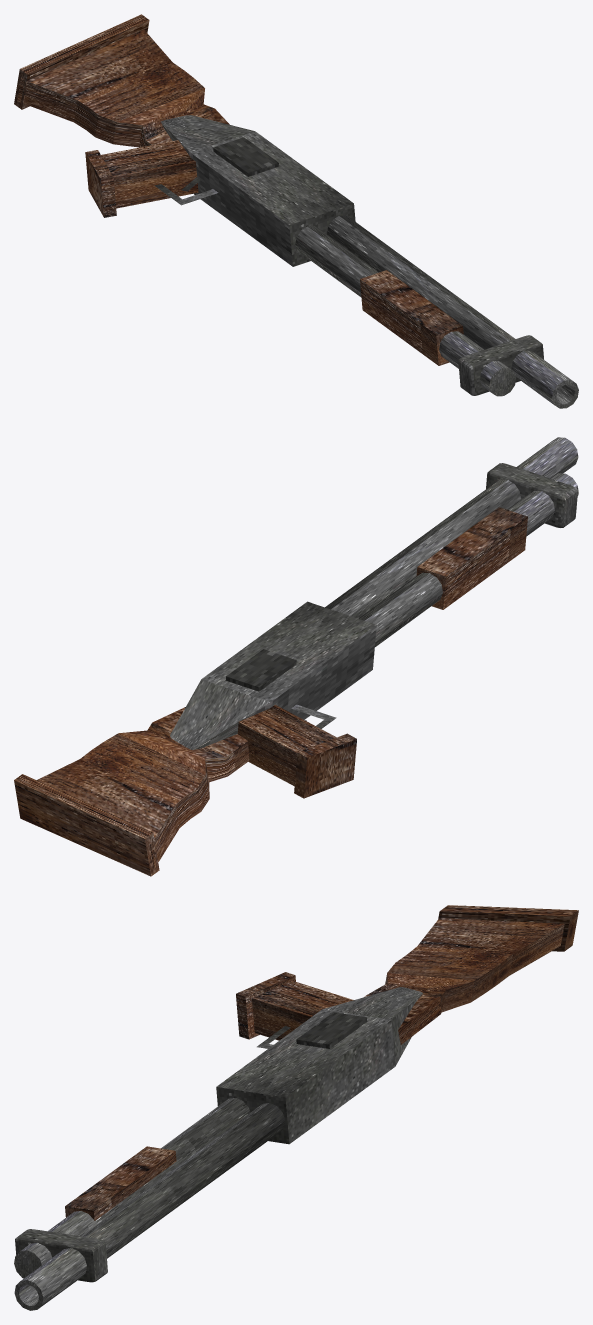
Rendered from SM_shotgun.glb.
The picture shows the model from 3 angles, top to bottom: view 1: azimuth 30°, elevation 25°; view 2: azimuth 150°, elevation 25°; view 3: azimuth 330°, elevation 25°; orthographic projection. The views are drawn at different scales.
Visible parts, largest first — view 1: SM_shotgun; view 2: SM_shotgun; view 3: SM_shotgun.
Part boxes in pixels (box(x1,y1,x2,y2)): SM_shotgun: box(14, 14, 578, 408); SM_shotgun: box(14, 437, 578, 876); SM_shotgun: box(14, 905, 578, 1310).
Size of the model in its own units: 1.02 by 0.3178 by 4.59.
Materials: 3 (3 with a texture image).
